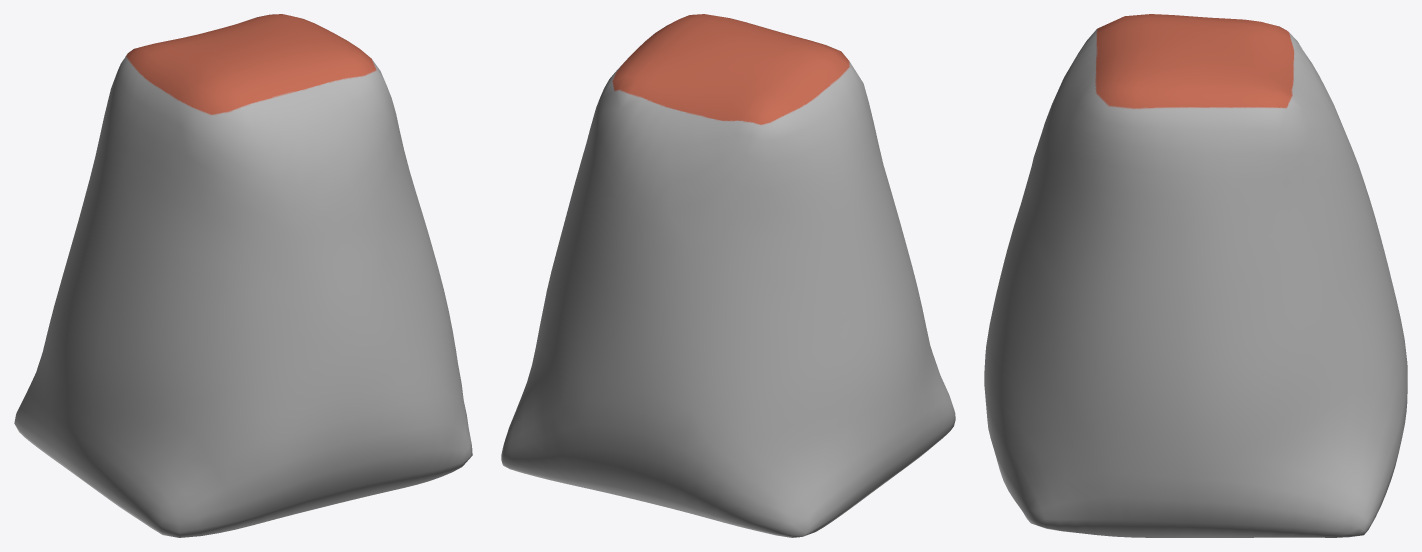
The model's file is Temple_S.fbx.
The picture shows the model from 3 angles, left to right: view 1: azimuth 30°, elevation 25°; view 2: azimuth 150°, elevation 25°; view 3: azimuth 270°, elevation 25°; orthographic projection. The views are drawn at different scales.
Visible parts, largest first — view 1: Temple_M; view 2: Temple_M; view 3: Temple_M.
Boxes of the visible parts, bbox=[...] form: Temple_M: bbox=[14, 14, 472, 537]; Temple_M: bbox=[501, 14, 955, 537]; Temple_M: bbox=[984, 14, 1407, 537].
Size of the model in its own units: 166 by 180 by 164.
